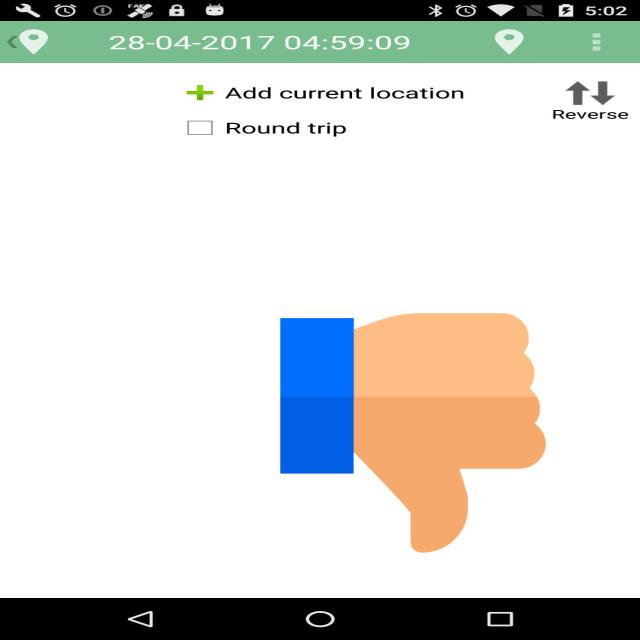obstruction: (280, 307, 546, 559)
